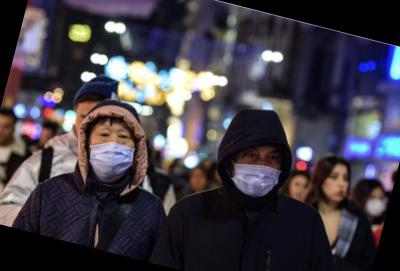with_mask: (77, 119, 142, 188), (226, 136, 290, 203), (364, 190, 390, 219)
without_mask: (320, 166, 356, 208)
